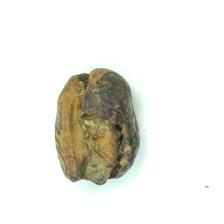NG: (56, 68, 139, 186)
